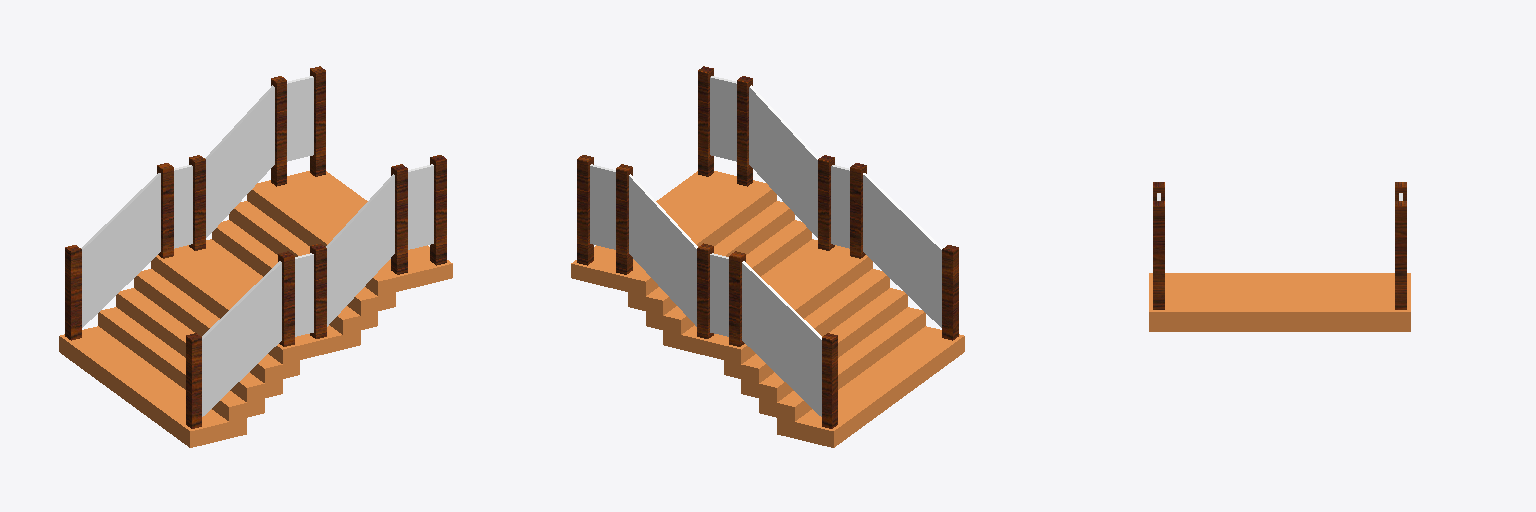
The picture shows the model from 3 angles: view 1: azimuth 30°, elevation 25°; view 2: azimuth 150°, elevation 25°; view 3: azimuth 270°, elevation 25°; orthographic projection.
Visible parts, largest first — view 1: entity0_brush22, entity0_brush11, entity0_brush18, entity0_brush14, entity0_brush10, entity0_brush2, entity0_brush4, entity0_brush7, entity0_brush9, entity0_brush8, entity0_brush1, entity0_brush0 (+14 smaller); view 2: entity0_brush22, entity0_brush11, entity0_brush14, entity0_brush18, entity0_brush10, entity0_brush4, entity0_brush2, entity0_brush7, entity0_brush9, entity0_brush8, entity0_brush1, entity0_brush0 (+14 smaller); view 3: entity0_brush22, entity0_brush11, entity0_brush24, entity0_brush25.
Boxes of the visible parts, <box> form: entity0_brush22: <box>247,171,452,296</box>; entity0_brush11: <box>59,326,246,447</box>; entity0_brush18: <box>202,261,281,416</box>; entity0_brush14: <box>81,173,160,327</box>; entity0_brush10: <box>151,239,360,363</box>; entity0_brush2: <box>205,85,274,237</box>; entity0_brush4: <box>326,174,394,326</box>; entity0_brush7: <box>98,307,264,421</box>; entity0_brush9: <box>134,269,299,383</box>; entity0_brush8: <box>116,288,282,402</box>; entity0_brush1: <box>229,201,395,315</box>; entity0_brush0: <box>212,220,377,334</box>; entity0_brush22: <box>571,171,776,296</box>; entity0_brush11: <box>777,326,964,447</box>; entity0_brush14: <box>742,261,821,416</box>; entity0_brush18: <box>863,173,942,327</box>; entity0_brush10: <box>663,239,872,363</box>; entity0_brush4: <box>749,85,818,237</box>; entity0_brush2: <box>629,174,697,326</box>; entity0_brush7: <box>759,307,925,421</box>; entity0_brush9: <box>724,269,889,383</box>; entity0_brush8: <box>741,288,907,402</box>; entity0_brush1: <box>628,201,794,315</box>; entity0_brush0: <box>646,220,811,334</box>; entity0_brush22: <box>1149,275,1410,326</box>; entity0_brush11: <box>1149,327,1410,331</box>; entity0_brush24: <box>1153,201,1164,309</box>; entity0_brush25: <box>1395,201,1406,309</box>.
Size of the model in its own units: 148 by 121 by 128.
3 materials, 1 textured.